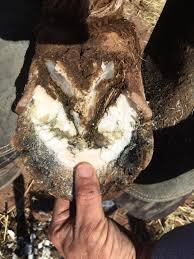horsesole: (16, 83, 154, 203)
